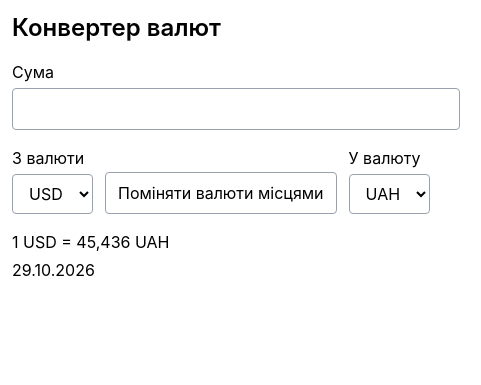
Converter result › makes one request while the amount changes, and keeps the same rate and date
The width and height of the screenshot is (481, 385).
Check: the text "1 USD = 45,436 UAH" is shown, box [12, 232, 170, 252]
Type "100" into the field labelled "Сума" at (236,109), box [12, 88, 460, 130]
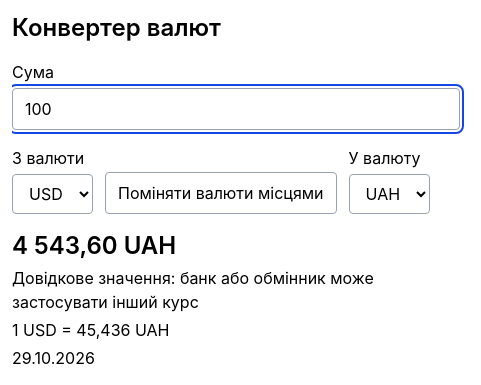
Replace the text in the field labelled "Сума" with "2,5" at (236,109), box [12, 88, 460, 130]
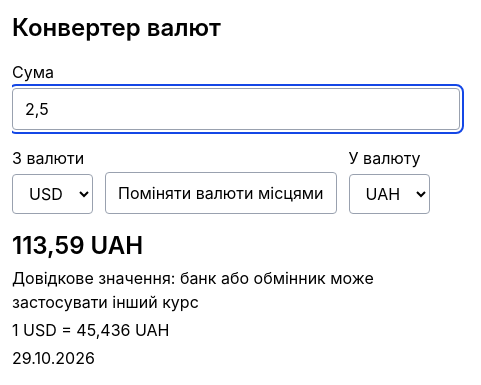
Check: the text "1 USD = 45,436 UAH" is shown, box [12, 320, 170, 340]
Check: the text "113,59 UAH" is shown, box [12, 231, 143, 260]
